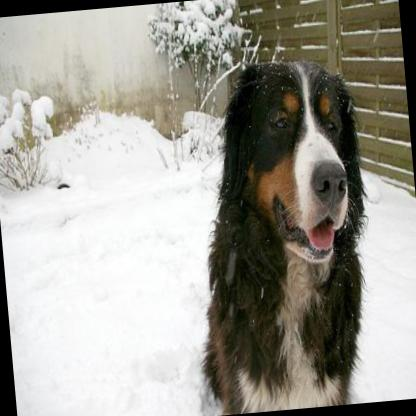Bernese_mountain_dog: (175, 51, 382, 414)
